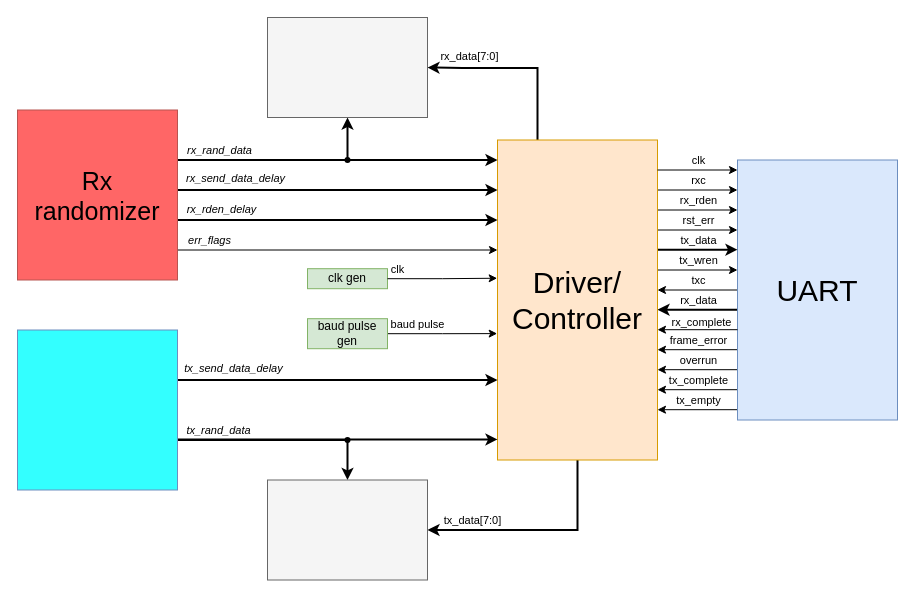
This 915x598 diagram has some shape labels left out. The centre of each missing label's shape, as x and y in pixels:
"Rx data checker" goes at [347,67].
"Tx data checker" goes at [347,529].
"Tx randomizer" goes at [97,409].
